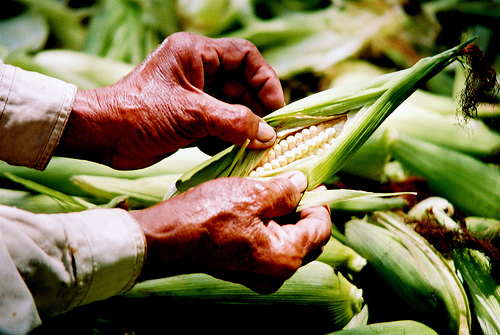corn: (172, 40, 495, 227)
